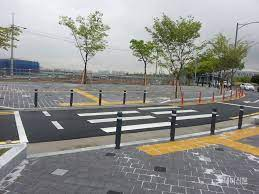guide_blocks: (217, 136, 259, 153), (224, 128, 259, 141), (177, 139, 214, 151), (141, 142, 175, 154), (62, 101, 145, 105), (76, 88, 102, 100)
